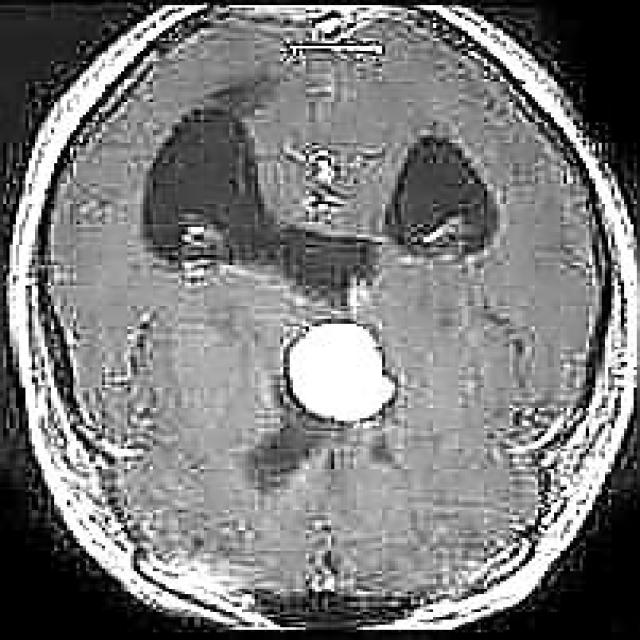Tumor-Cell: (270, 320, 403, 428)
